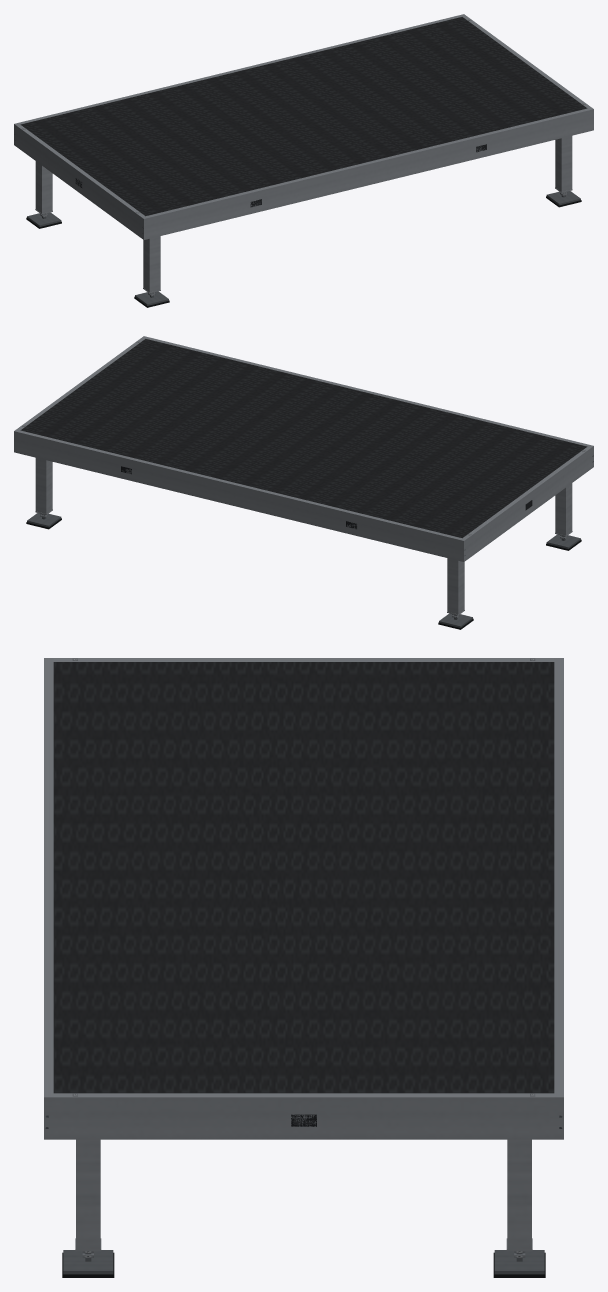
Rendered from stage_deck_2x1_h040.obj.
3 renders of one model, top to bottom at view 1: azimuth 30°, elevation 25°; view 2: azimuth 150°, elevation 25°; view 3: azimuth 270°, elevation 25°, orthographic. The views are drawn at different scales.
Visible parts, largest first — view 1: part_4, part_43, part_81, part_28, part_64, part_679, part_427, part_100, part_124, part_10, part_46, part_301; view 2: part_4, part_6, part_81, part_64, part_28, part_546, part_294, part_124, part_100, part_46, part_10, part_420; view 3: part_4, part_104, part_28, part_64, part_542, part_668, part_124, part_100, part_10, part_46, part_110, part_106 (+2 smaller).
Boxes of the visible parts, x1,y1,x2,y2 form: part_4: (20,17,587,216); part_43: (144,109,593,239); part_81: (14,124,143,238); part_28: (15,14,465,125); part_64: (142,107,591,218); part_679: (562,136,571,191); part_427: (150,236,159,292); part_100: (16,124,144,216); part_124: (462,16,590,108); part_10: (14,14,463,124); part_46: (144,109,593,218); part_301: (42,166,51,213); part_4: (20,339,587,538); part_6: (14,431,463,561); part_81: (464,447,593,560); part_64: (142,336,591,447); part_28: (16,429,465,540); part_546: (36,458,45,513); part_294: (448,558,457,614); part_124: (17,338,145,430); part_100: (463,446,591,538); part_46: (143,336,593,446); part_10: (14,431,463,540); part_420: (556,488,565,535); part_4: (53,662,554,1093); part_104: (46,1097,561,1139); part_28: (554,658,563,1097); part_64: (44,658,53,1097); part_542: (507,1139,531,1249); part_668: (76,1139,100,1249); part_124: (53,1093,554,1097); part_100: (53,658,554,661); part_10: (561,658,563,1097); part_46: (44,658,46,1097); part_110: (72,1137,535,1139); part_106: (53,1096,560,1097).
Bounding box in the file's own units: 2 × 0.401 × 1.
3 materials, 3 textured.
